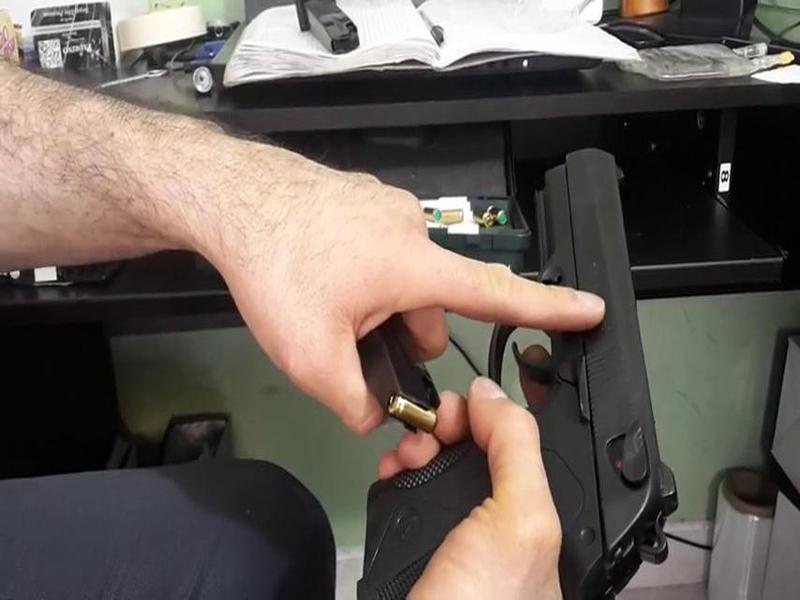Pistola: (448, 128, 682, 600)
